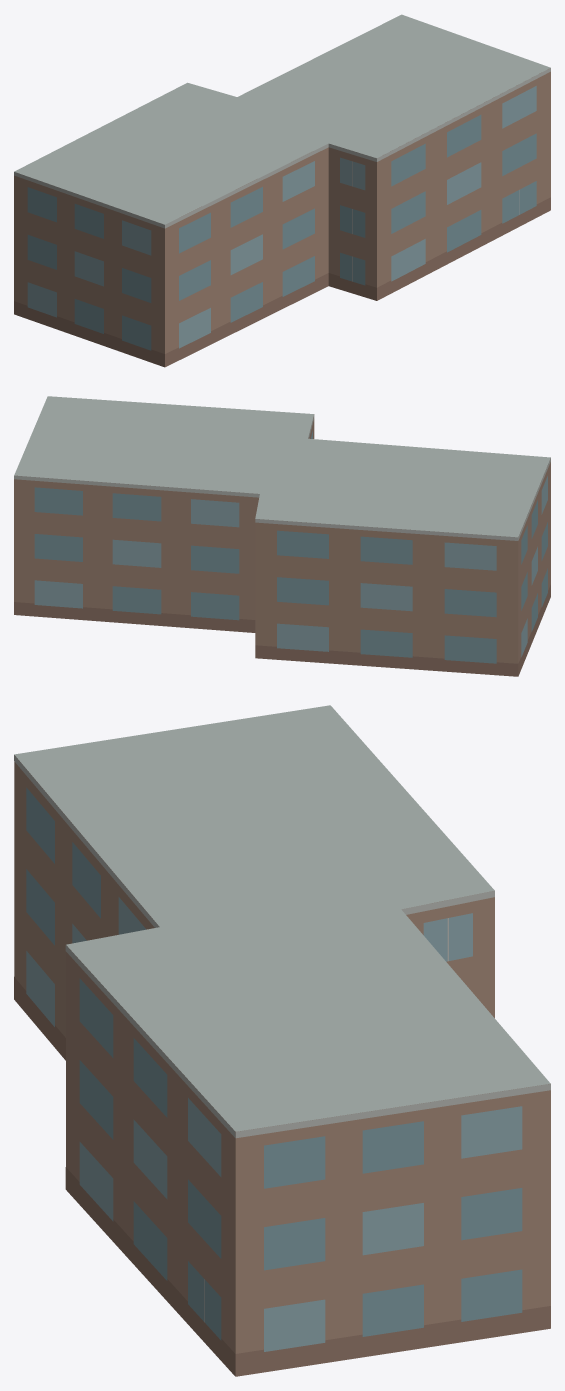
Rendered from survey-upis-32918606.glb.
3 renders of one model, top to bottom at view 1: azimuth 30°, elevation 25°; view 2: azimuth 150°, elevation 25°; view 3: azimuth 270°, elevation 25°, orthographic. The views are drawn at different scales.
Visible parts, largest first — view 1: survey-upis-32918606.tmp; view 2: survey-upis-32918606.tmp; view 3: survey-upis-32918606.tmp.
Part boxes in pixels (left/top/right/bottom): survey-upis-32918606.tmp: left=14, top=14, right=550, bottom=367; survey-upis-32918606.tmp: left=14, top=396, right=550, bottom=676; survey-upis-32918606.tmp: left=14, top=705, right=550, bottom=1376.
Size of the model in its own units: 34.19 by 9.15 by 18.18.
